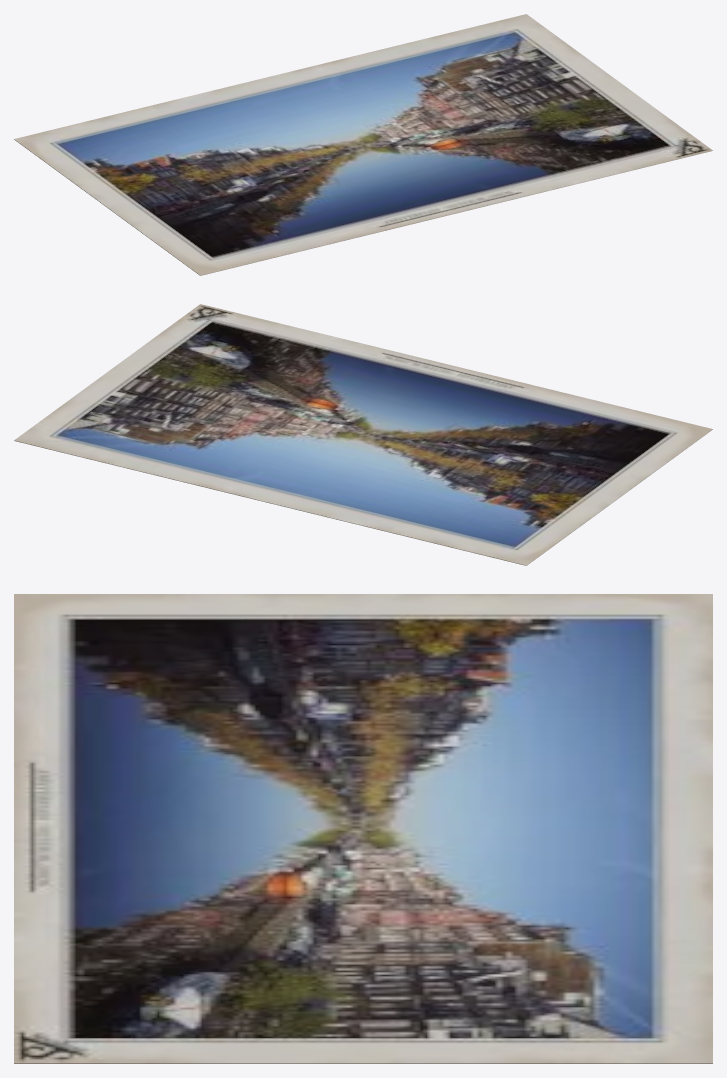
Rendered from postcards.glb.
3 views of the same model, one above another, from view 1: azimuth 30°, elevation 25°; view 2: azimuth 150°, elevation 25°; view 3: azimuth 270°, elevation 25° (orthographic). The views are drawn at different scales.
Visible parts, largest first — view 1: postcard_01; view 2: postcard_01; view 3: postcard_01.
Part boxes in pixels (bbox=[...]): postcard_01: bbox=[14, 14, 712, 275]; postcard_01: bbox=[14, 304, 712, 565]; postcard_01: bbox=[14, 594, 712, 1063].
Size of the model in its own units: 0.1667 by 0.000142 by 0.105.
1 material, 1 textured.
